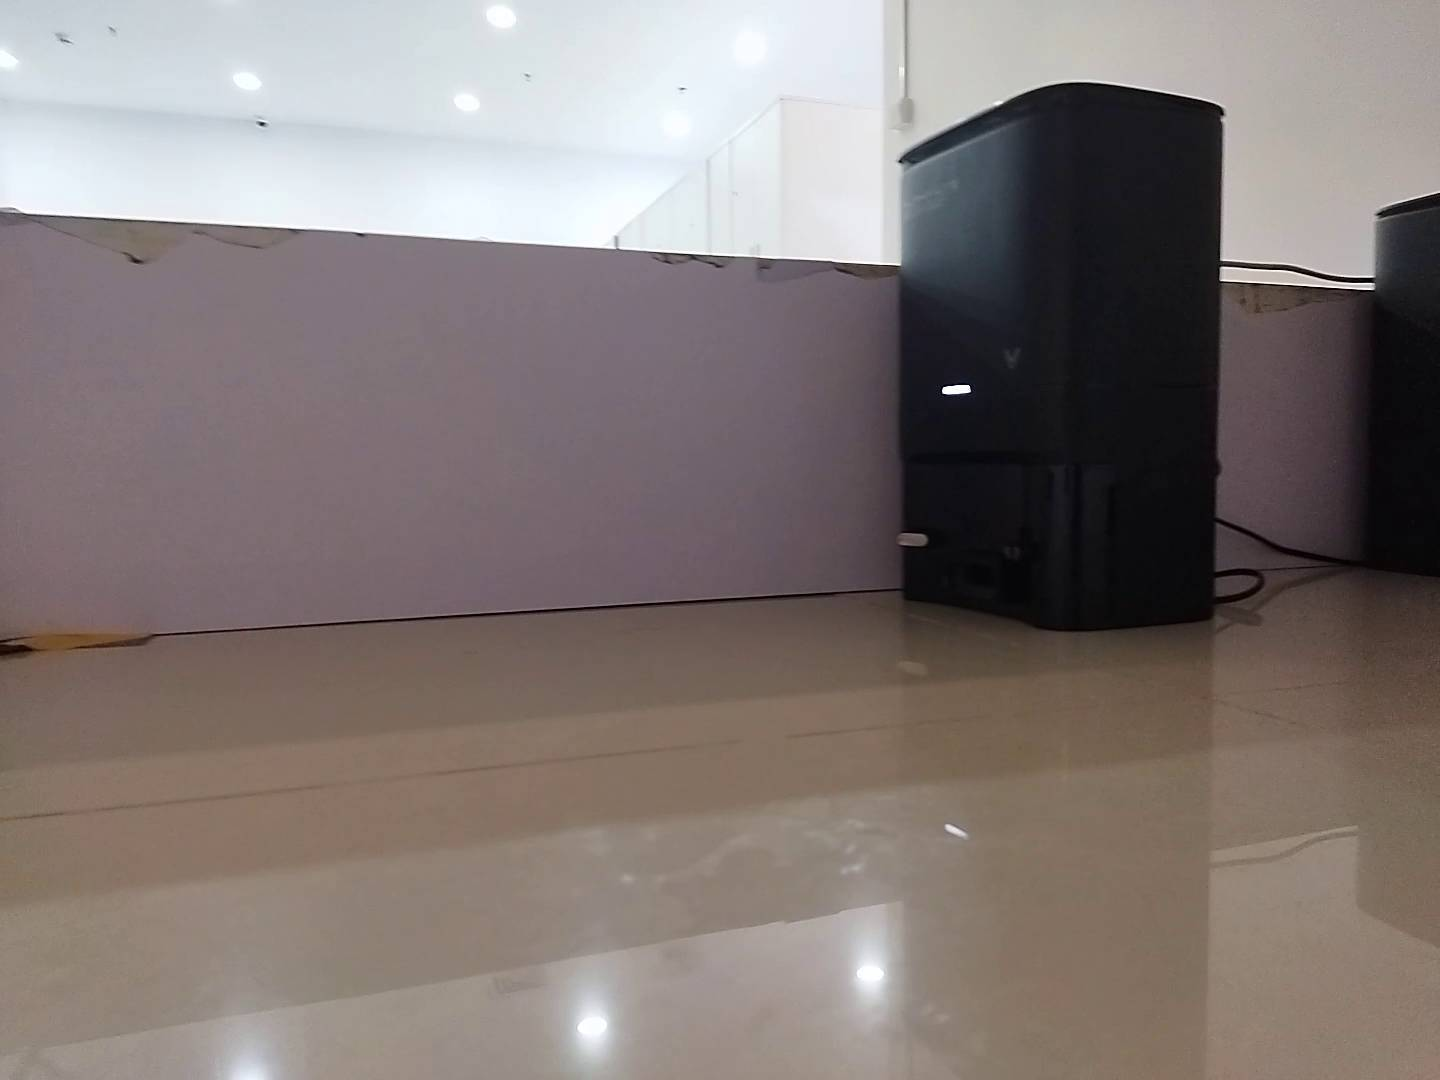dust collecting barrel: (898, 83, 1225, 631)
